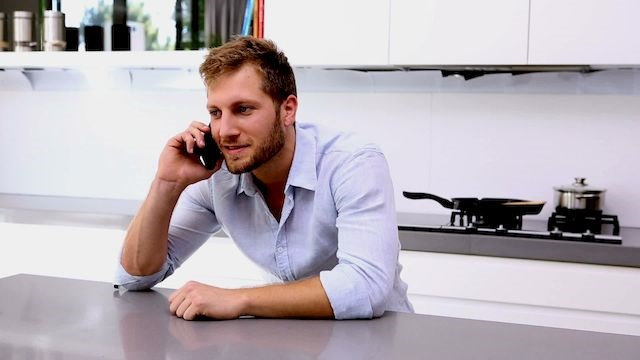phone: (197, 119, 226, 173)
talk: (167, 98, 276, 177)
